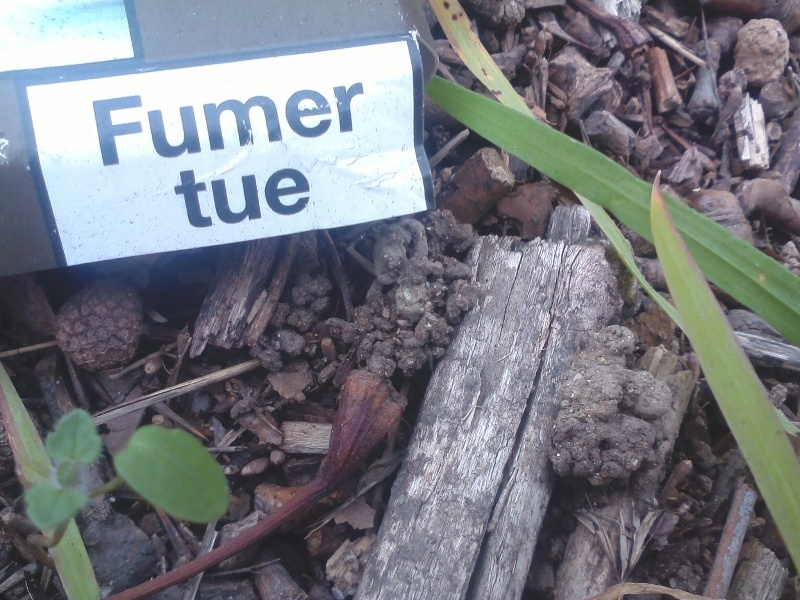text: (97, 81, 112, 168), (113, 81, 128, 168), (129, 81, 144, 168), (145, 81, 160, 168), (161, 81, 176, 168), (177, 81, 192, 168), (193, 81, 208, 168), (209, 81, 224, 168), (225, 81, 240, 168), (241, 81, 256, 168), (257, 81, 272, 168), (273, 81, 288, 168), (289, 81, 304, 168), (305, 81, 320, 168), (321, 81, 336, 168), (337, 81, 352, 168), (353, 81, 368, 168), (177, 168, 192, 233), (193, 168, 208, 233), (209, 168, 224, 233), (225, 168, 240, 233), (241, 168, 256, 233), (257, 168, 272, 233), (273, 168, 288, 233), (289, 168, 304, 233), (305, 168, 313, 233), (91, 81, 96, 168), (172, 168, 176, 233), (369, 81, 370, 168)
